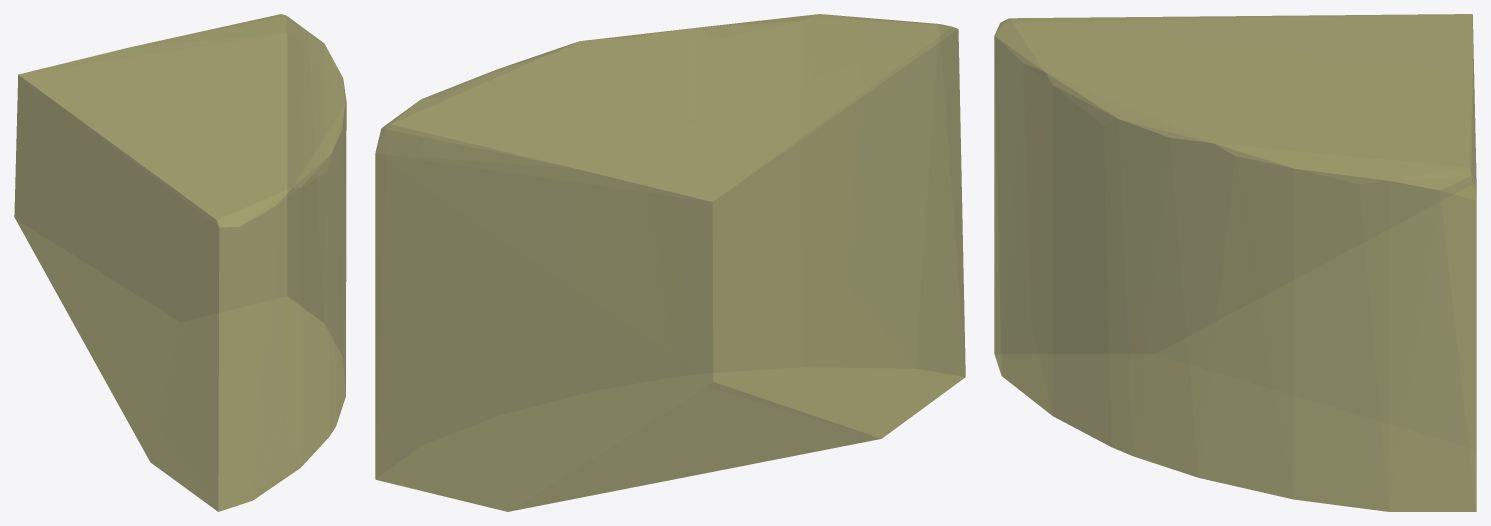
3 views of the same model, side by side, from view 1: azimuth 30°, elevation 25°; view 2: azimuth 150°, elevation 25°; view 3: azimuth 270°, elevation 25° (orthographic). The views are drawn at different scales.
Parts seen in each view (by area): view 1: Shape_IndexedFaceSet.006_Shape_IndexedFaceSet.5682; view 2: Shape_IndexedFaceSet.006_Shape_IndexedFaceSet.5682; view 3: Shape_IndexedFaceSet.006_Shape_IndexedFaceSet.5682.
Part boxes in pixels (x1=…): Shape_IndexedFaceSet.006_Shape_IndexedFaceSet.5682: x1=14, y1=14, x2=346, y2=511; Shape_IndexedFaceSet.006_Shape_IndexedFaceSet.5682: x1=375, y1=14, x2=965, y2=511; Shape_IndexedFaceSet.006_Shape_IndexedFaceSet.5682: x1=994, y1=14, x2=1476, y2=511.
Size of the model in its own units: 0.1642 by 0.1629 by 0.2084.
